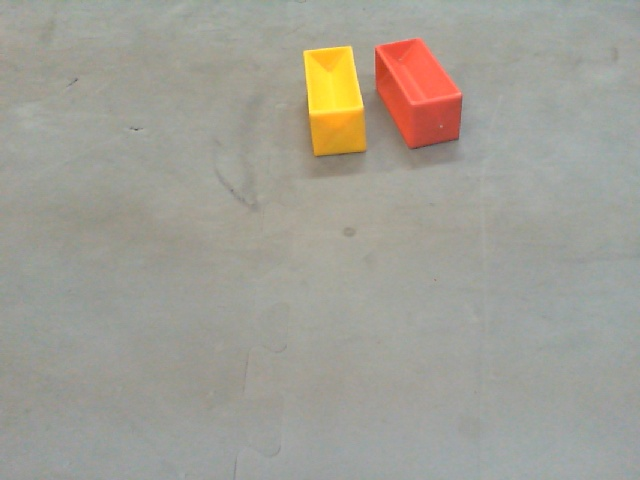RedSample: (372, 36, 464, 149)
YellowSample: (300, 44, 368, 157)
